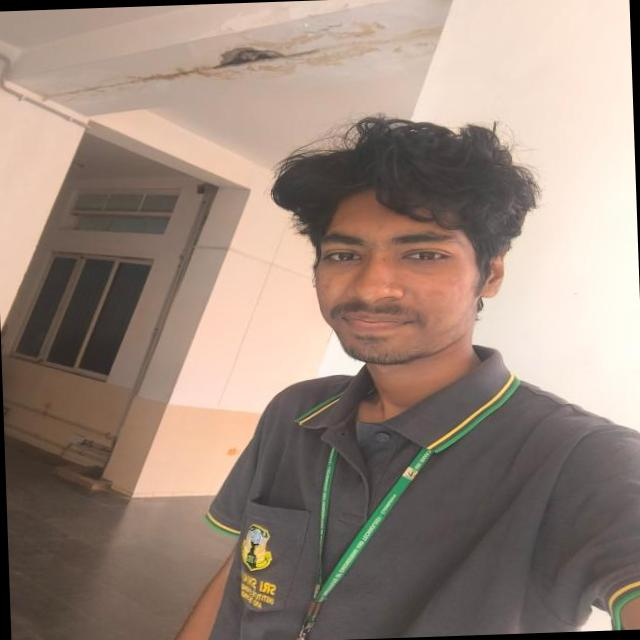id_card: (269, 427, 438, 640)
